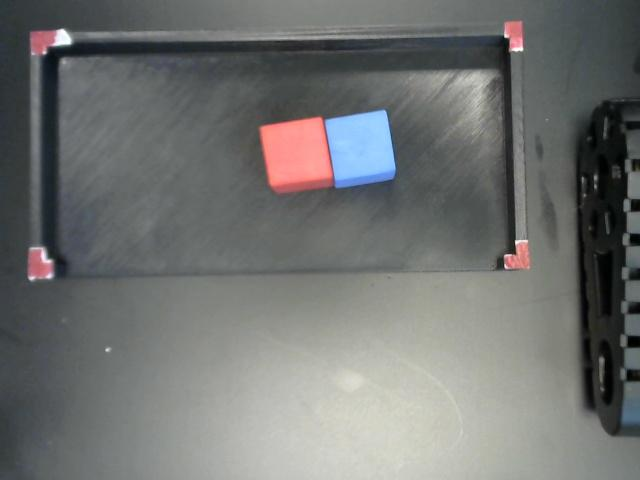cube: (258, 113, 333, 193), (326, 109, 397, 188)
